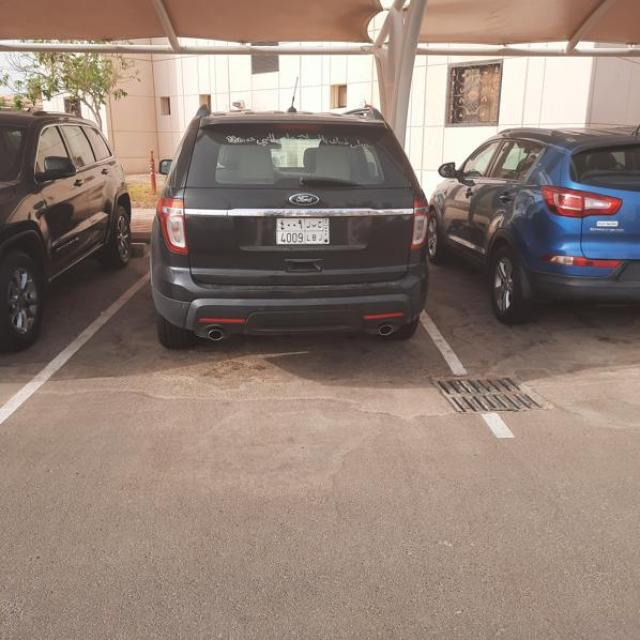license_plate: (276, 218, 329, 244)
